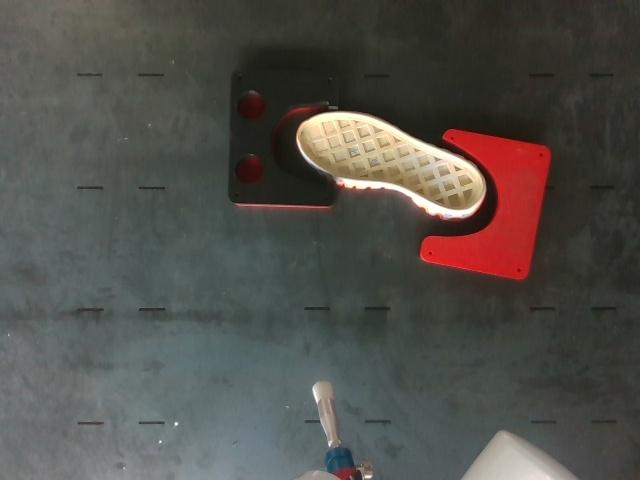shoes: (298, 113, 485, 211)
